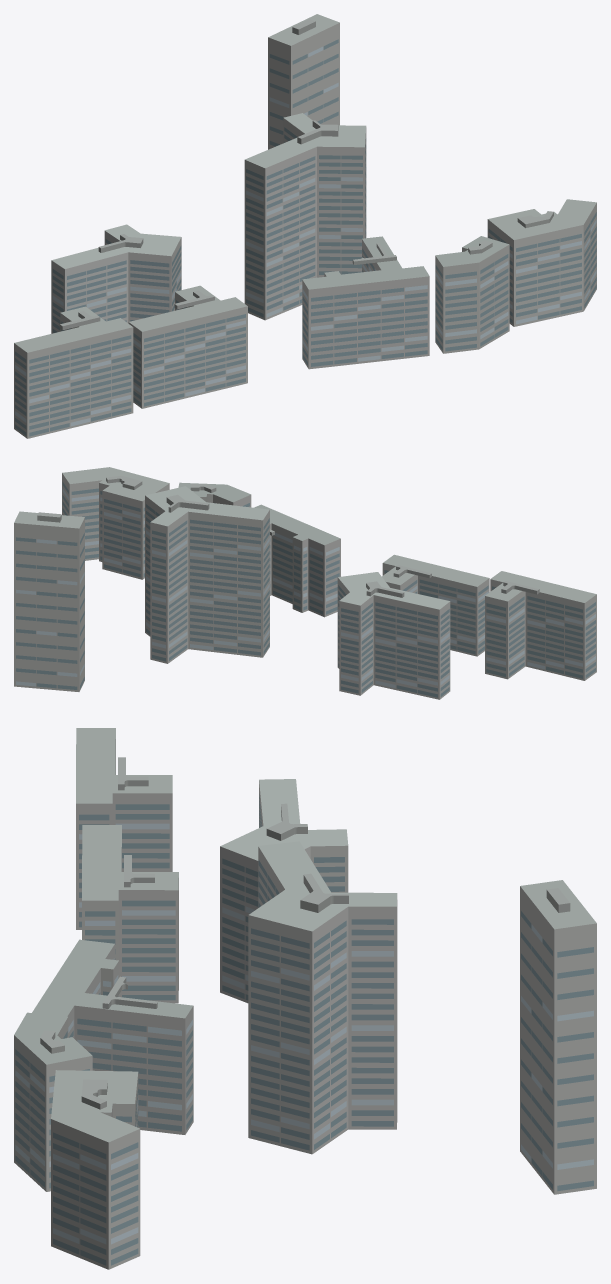
The model's file is residual-dmc-completion-apt-a10024938.glb.
3 renders of one model, top to bottom at view 1: azimuth 30°, elevation 25°; view 2: azimuth 150°, elevation 25°; view 3: azimuth 270°, elevation 25°, orthographic. The views are drawn at different scales.
Parts seen in each view (by area): view 1: residual-dmc-completion-apt-a10024938; view 2: residual-dmc-completion-apt-a10024938; view 3: residual-dmc-completion-apt-a10024938.
Part boxes in pixels (x1,y1,x2,y2): residual-dmc-completion-apt-a10024938: (14,14,596,438); residual-dmc-completion-apt-a10024938: (14,467,596,699); residual-dmc-completion-apt-a10024938: (14,728,596,1269).
Size of the model in its own units: 256 by 78.65 by 152.
